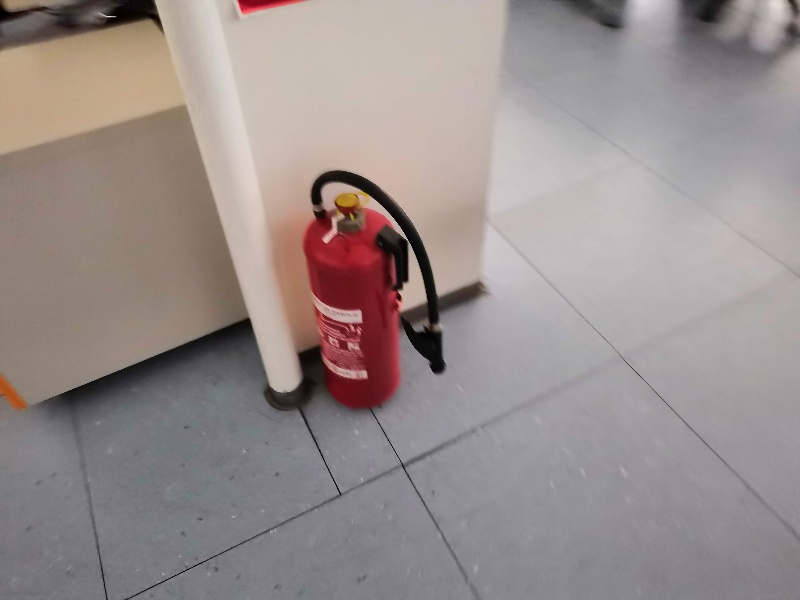vataparat: (306, 173, 444, 406)
